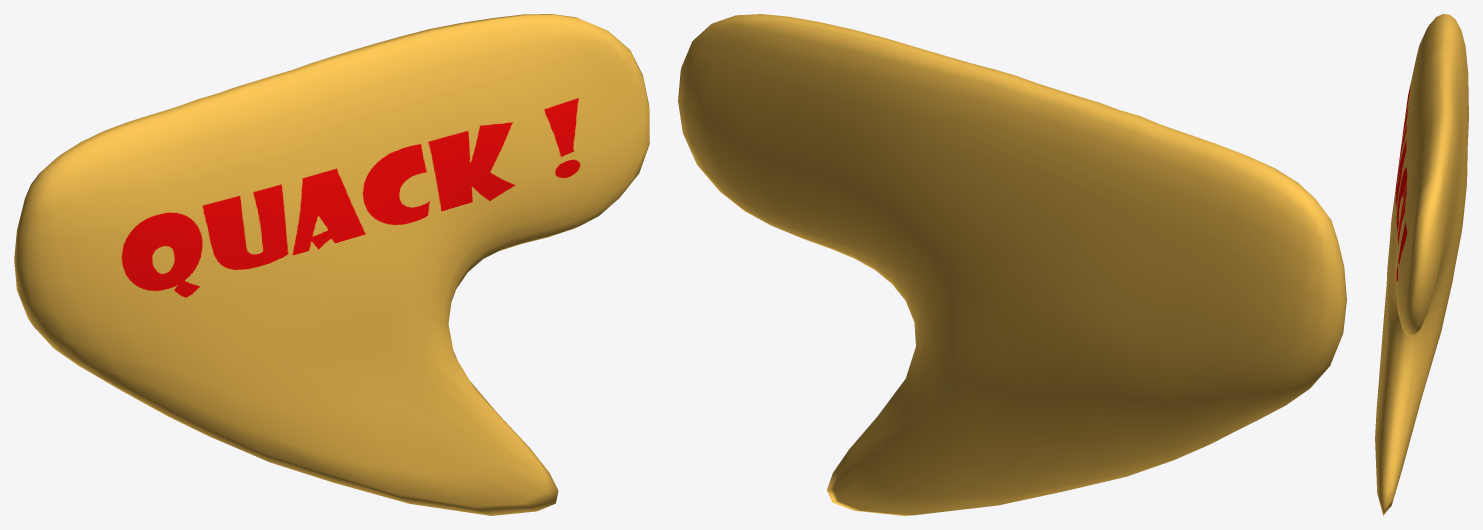
The model's file is quack@tap.fbx.
3 views of the same model, side by side, from view 1: azimuth 30°, elevation 25°; view 2: azimuth 150°, elevation 25°; view 3: azimuth 270°, elevation 25° (orthographic). The views are drawn at different scales.
Visible parts, largest first — view 1: pCube1; view 2: pCube1; view 3: pCube1.
Part boxes in pixels (x1,y1,x2,y2): pCube1: (14,14,649,515); pCube1: (678,14,1346,515); pCube1: (1375,14,1468,515).
Bounding box in the file's own units: 1.35 × 0.9793 × 0.2302.
